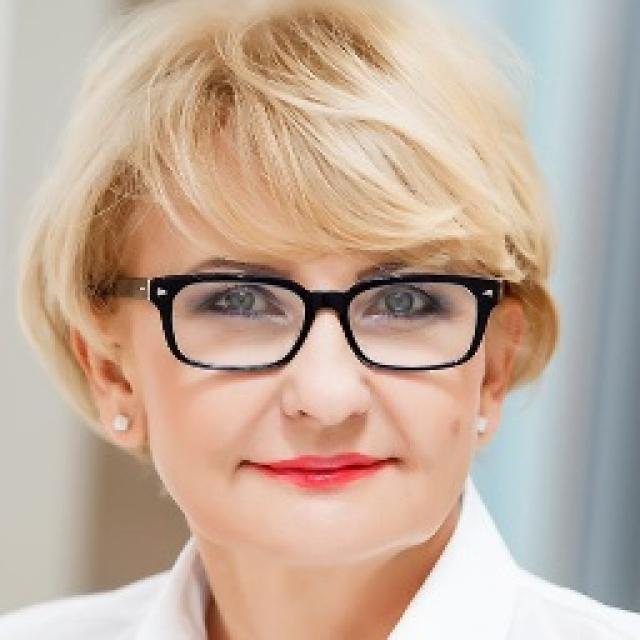glasses: (99, 254, 518, 388)
